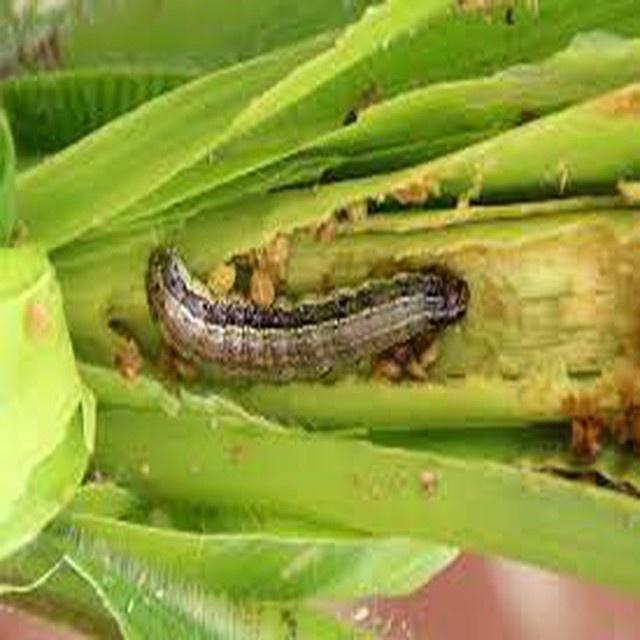gusano_cogollero: (144, 236, 468, 378)
